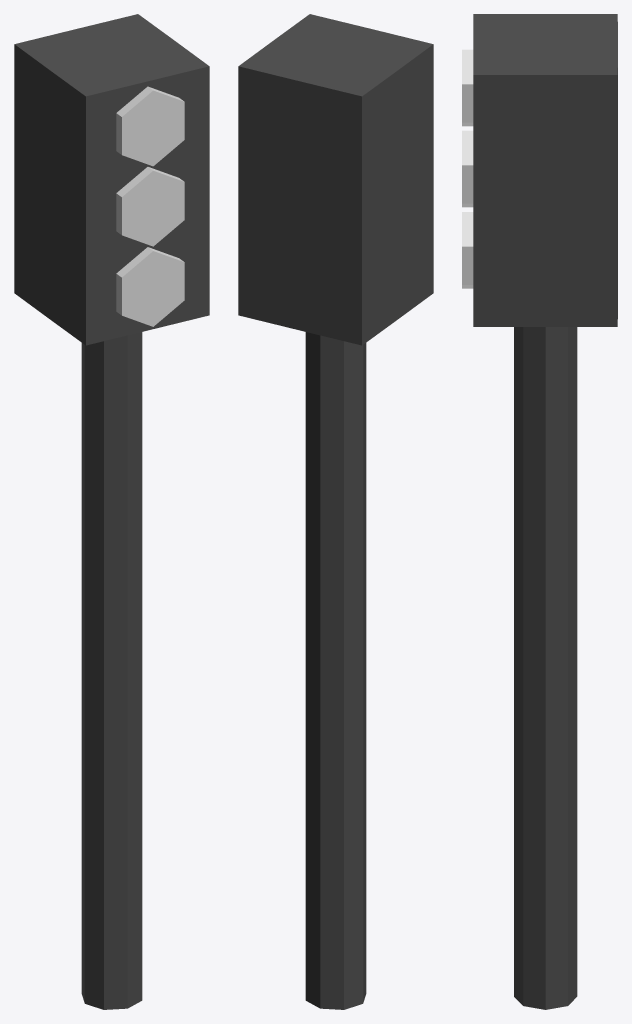
File: Traffic Light.fbx
3 views of the same model, side by side, from view 1: azimuth 30°, elevation 25°; view 2: azimuth 150°, elevation 25°; view 3: azimuth 270°, elevation 25° (orthographic).
Visible parts, largest first — view 1: traffic light, red, green, yellow; view 2: traffic light; view 3: traffic light, red, yellow, green.
Boxes of the visible parts, <box> form: traffic light: <box>14,14,209,1009</box>; red: <box>116,86,184,166</box>; green: <box>116,247,184,326</box>; yellow: <box>116,167,184,246</box>; traffic light: <box>238,14,433,1009</box>; traffic light: <box>473,14,617,1009</box>; red: <box>462,49,473,126</box>; yellow: <box>462,130,473,207</box>; green: <box>462,212,473,288</box>.
Bounding box in the file's own units: 44.87 × 326 × 48.36.
